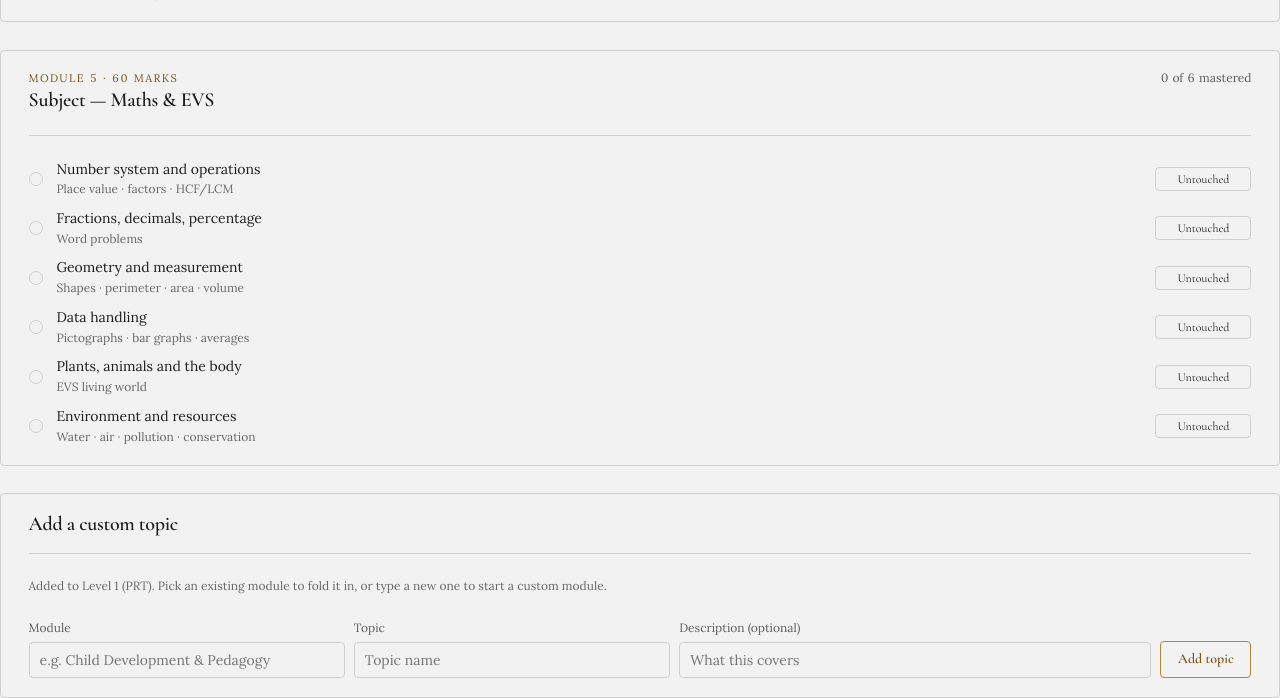
Test: Syllabus custom topics › a custom topic's confidence chip cycles the same way a seeded topic's does
(page scrolled)
Type "My Own Module" into the field with placeholder "e.g. Child Development & Pedagogy".
click(187, 660); type("My Own Module")  # box x1=29 y1=642 x2=345 y2=678
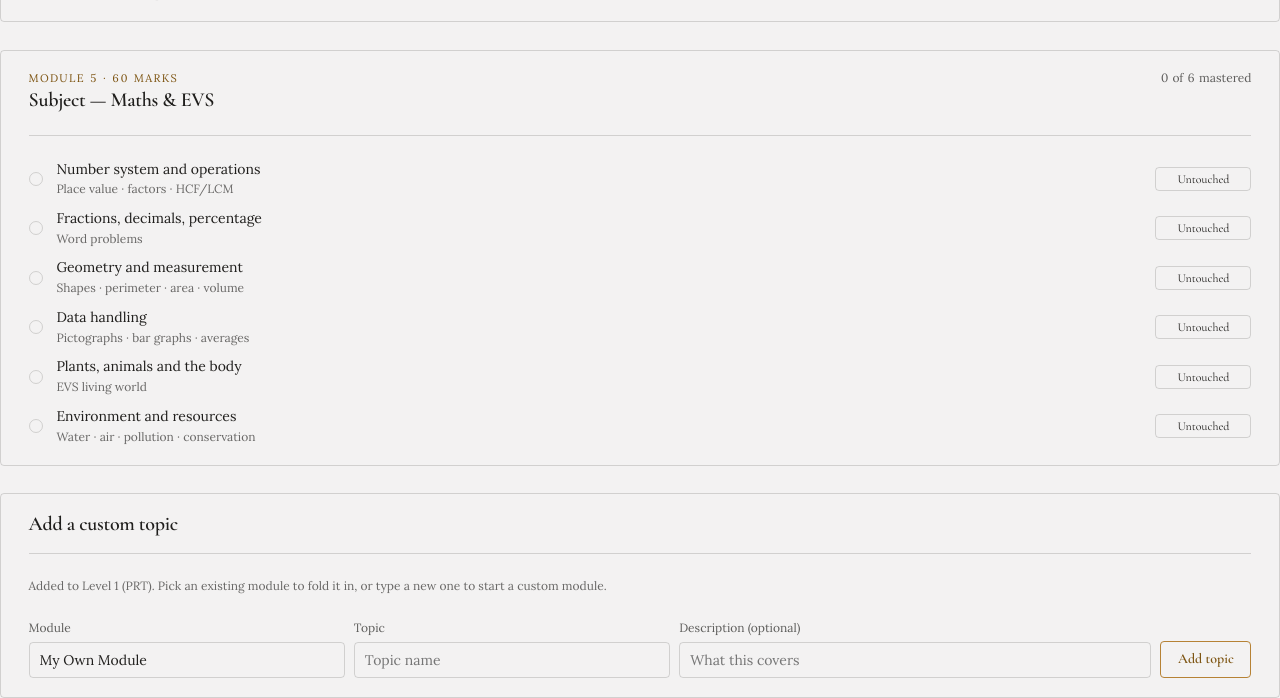
Type "Topic X" into the field with placeholder "Topic name".
click(512, 660); type("Topic X")  # box x1=354 y1=642 x2=670 y2=678
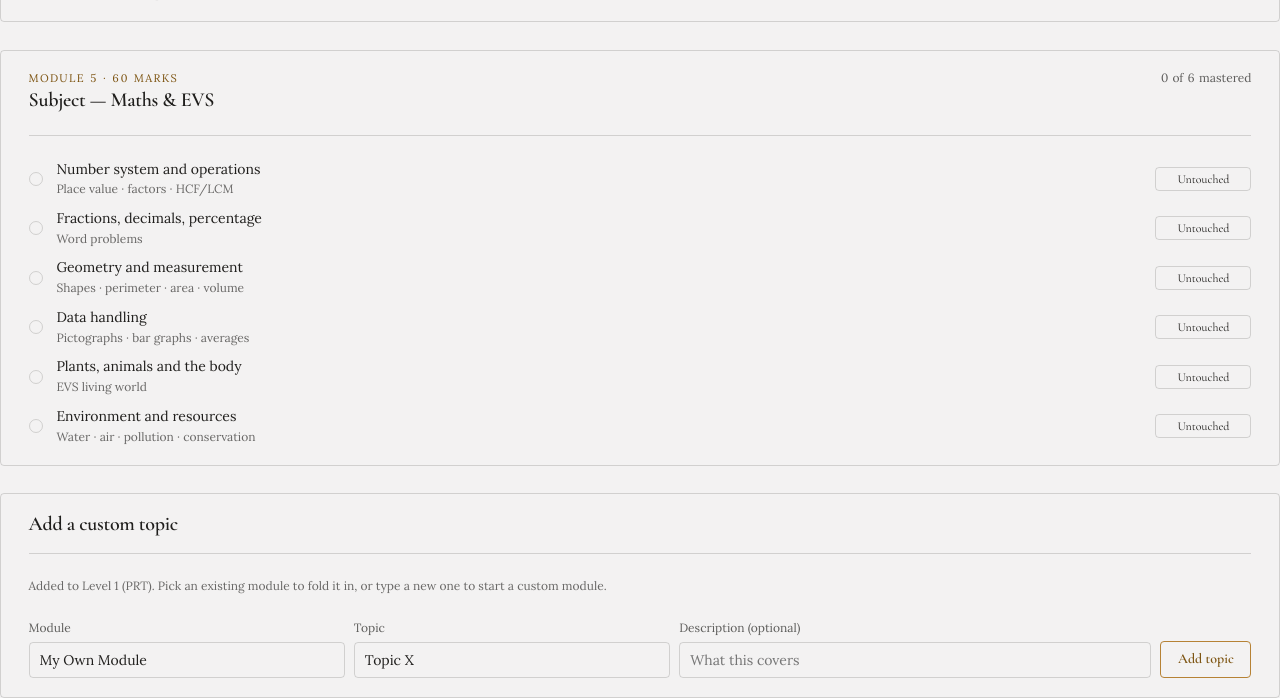
Click the button "Add topic".
click(1206, 660)  # box x1=1160 y1=641 x2=1251 y2=678
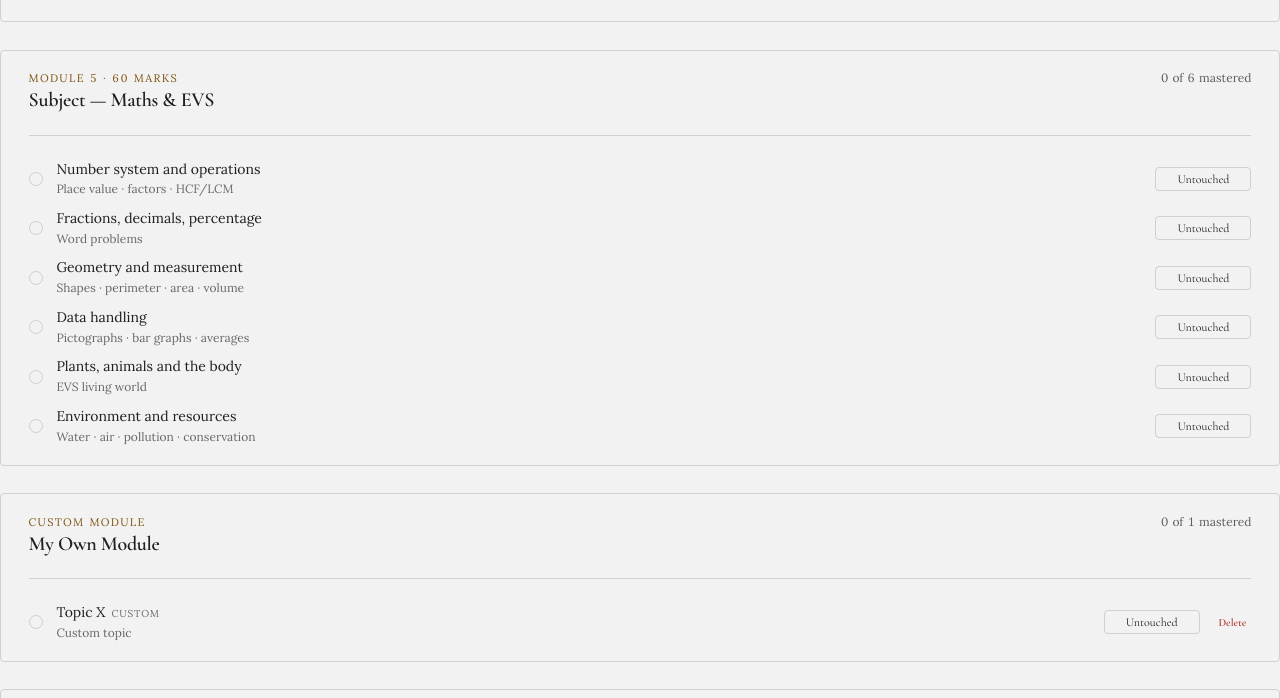
Click the button with aria-label "Topic X confidence: Untouched".
click(1152, 622)  # box x1=1104 y1=610 x2=1200 y2=634
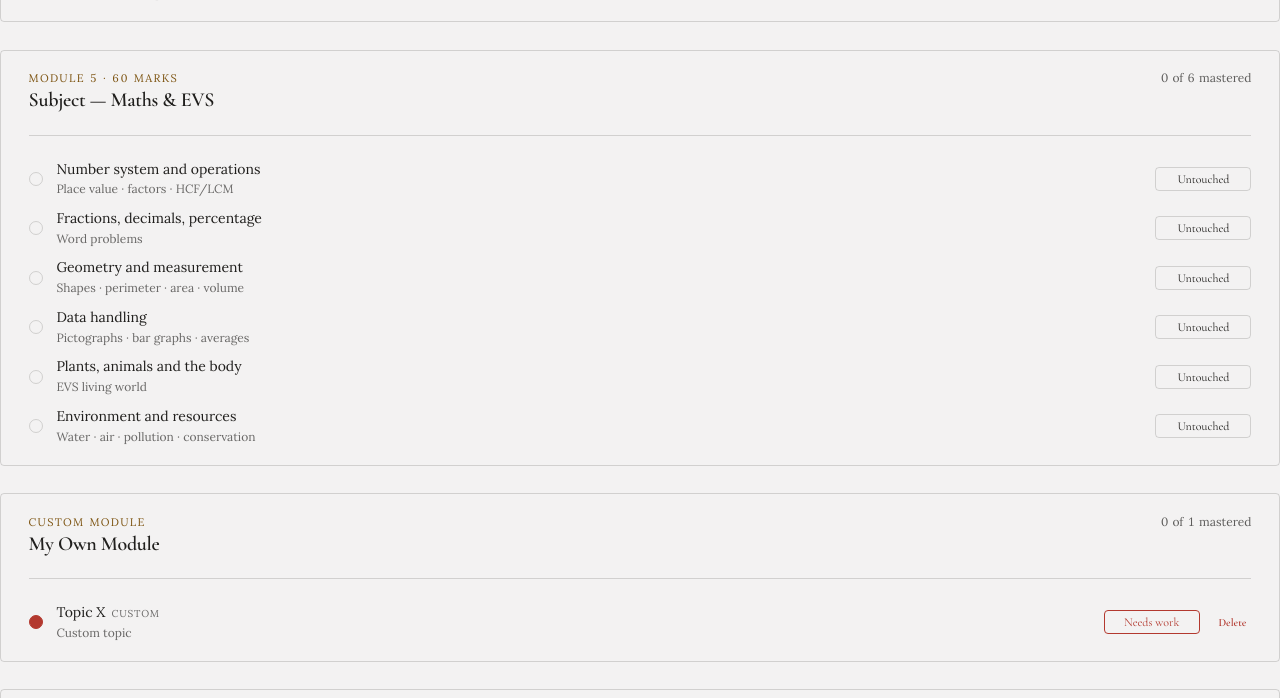
Result: the button with aria-label "Topic X confidence: Needs work" is shown at x1=1104 y1=610 x2=1200 y2=634
